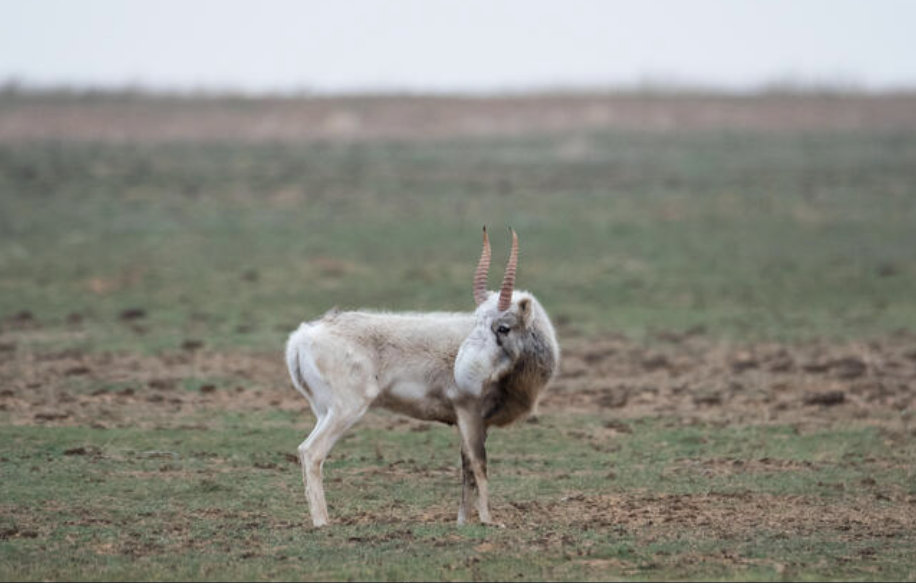saiga: (253, 221, 560, 557)
